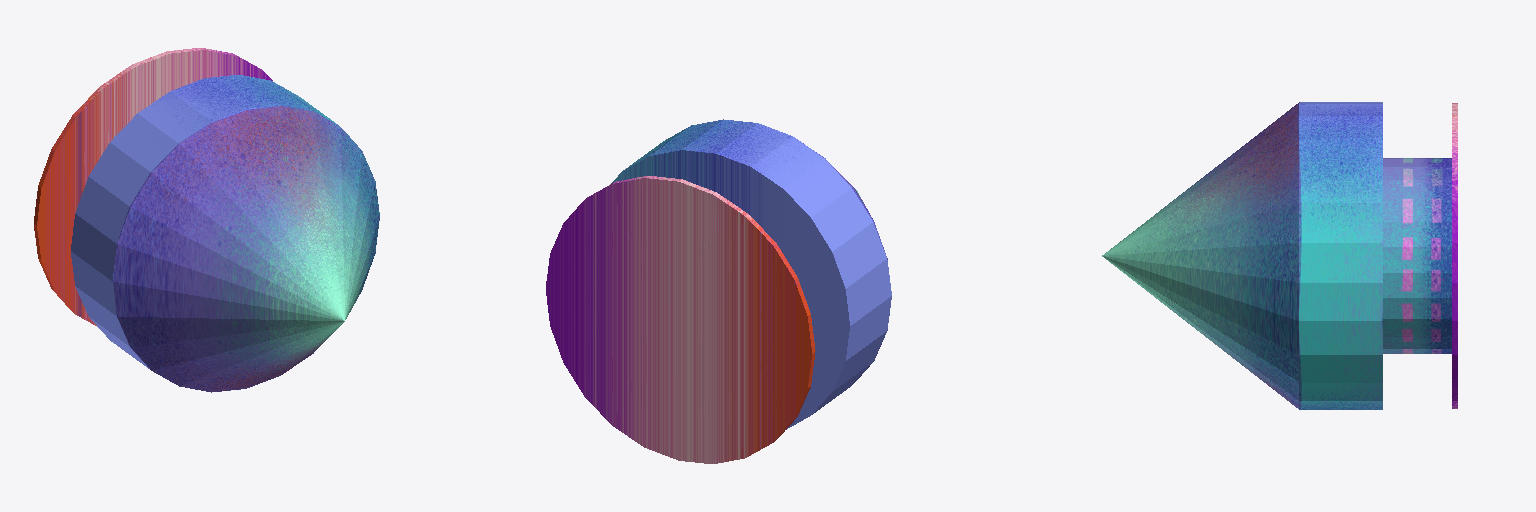
3 renders of one model, left to right at view 1: azimuth 30°, elevation 25°; view 2: azimuth 150°, elevation 25°; view 3: azimuth 270°, elevation 25°, orthographic.
Parts seen in each view (by area): view 1: UFO_Bmain; view 2: UFO_Bmain; view 3: UFO_Bmain.
Part boxes in pixels (left/top/right/bottom): UFO_Bmain: left=34, top=48, right=379, bottom=392; UFO_Bmain: left=546, top=119, right=891, bottom=463; UFO_Bmain: left=1102, top=102, right=1457, bottom=409.
Bounding box in the file's own units: 0.5533 × 0.5532 × 0.6381.
1 materials, 1 textured.